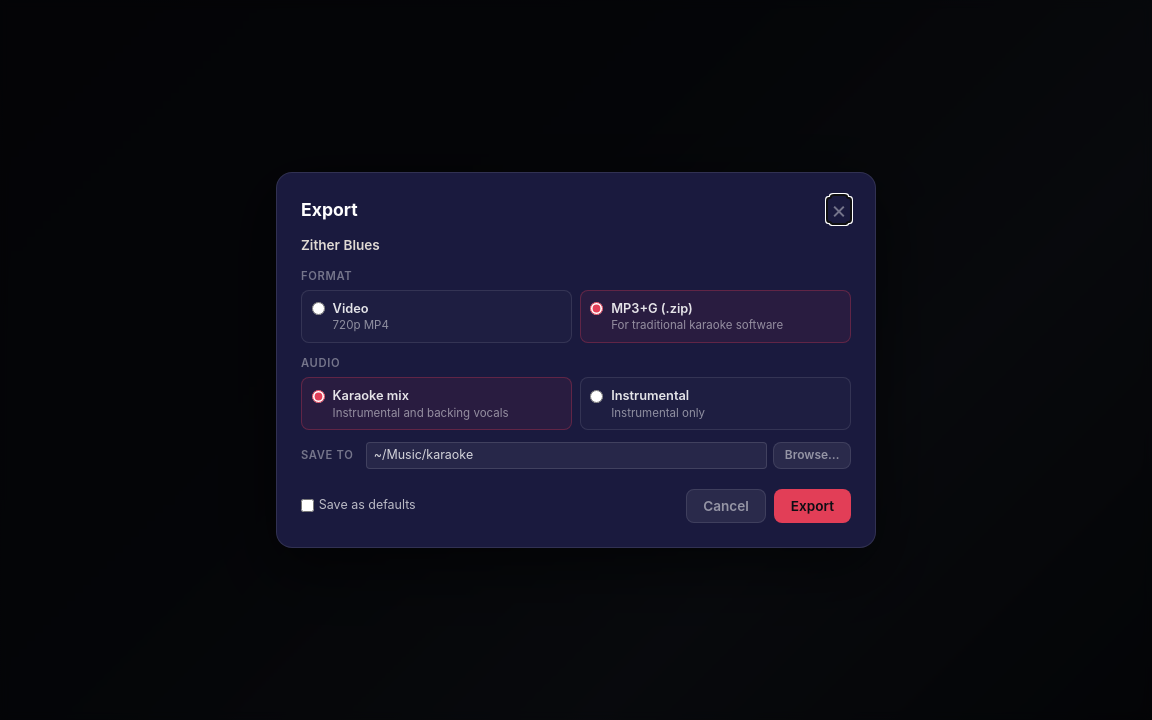
Test case: desktop build › Browse asks the host for a folder and shows the choice
What coordinates should you click on to do the following:
click the button "Browse…"
I would click on:
 (812, 455)
Its box is [773,442,851,469].
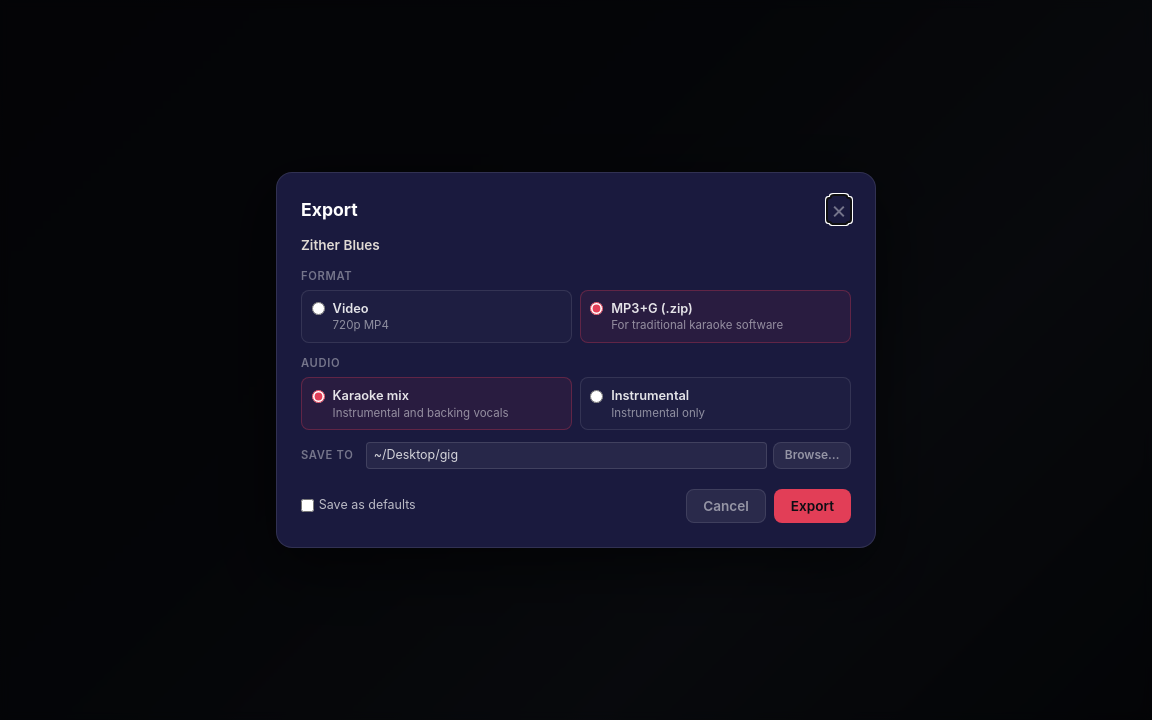
Now the field with class "export-path__input" holds "~/Desktop/gig", box [366,442,767,469]
